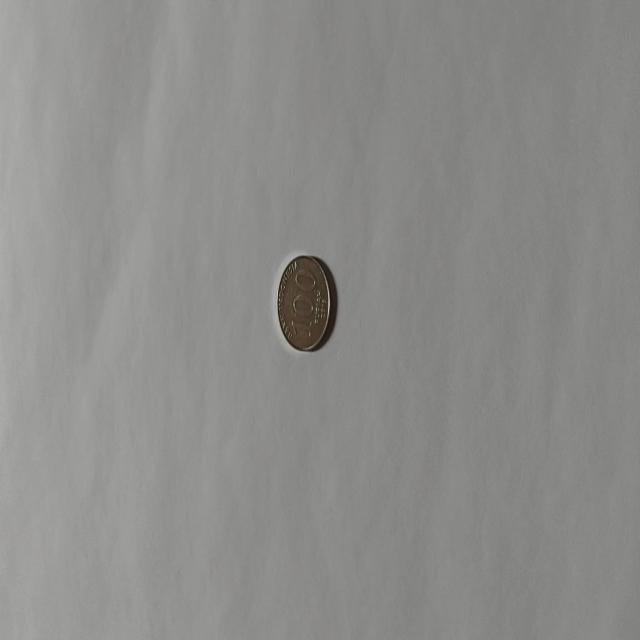seratus rupiah: (276, 253, 330, 352)
